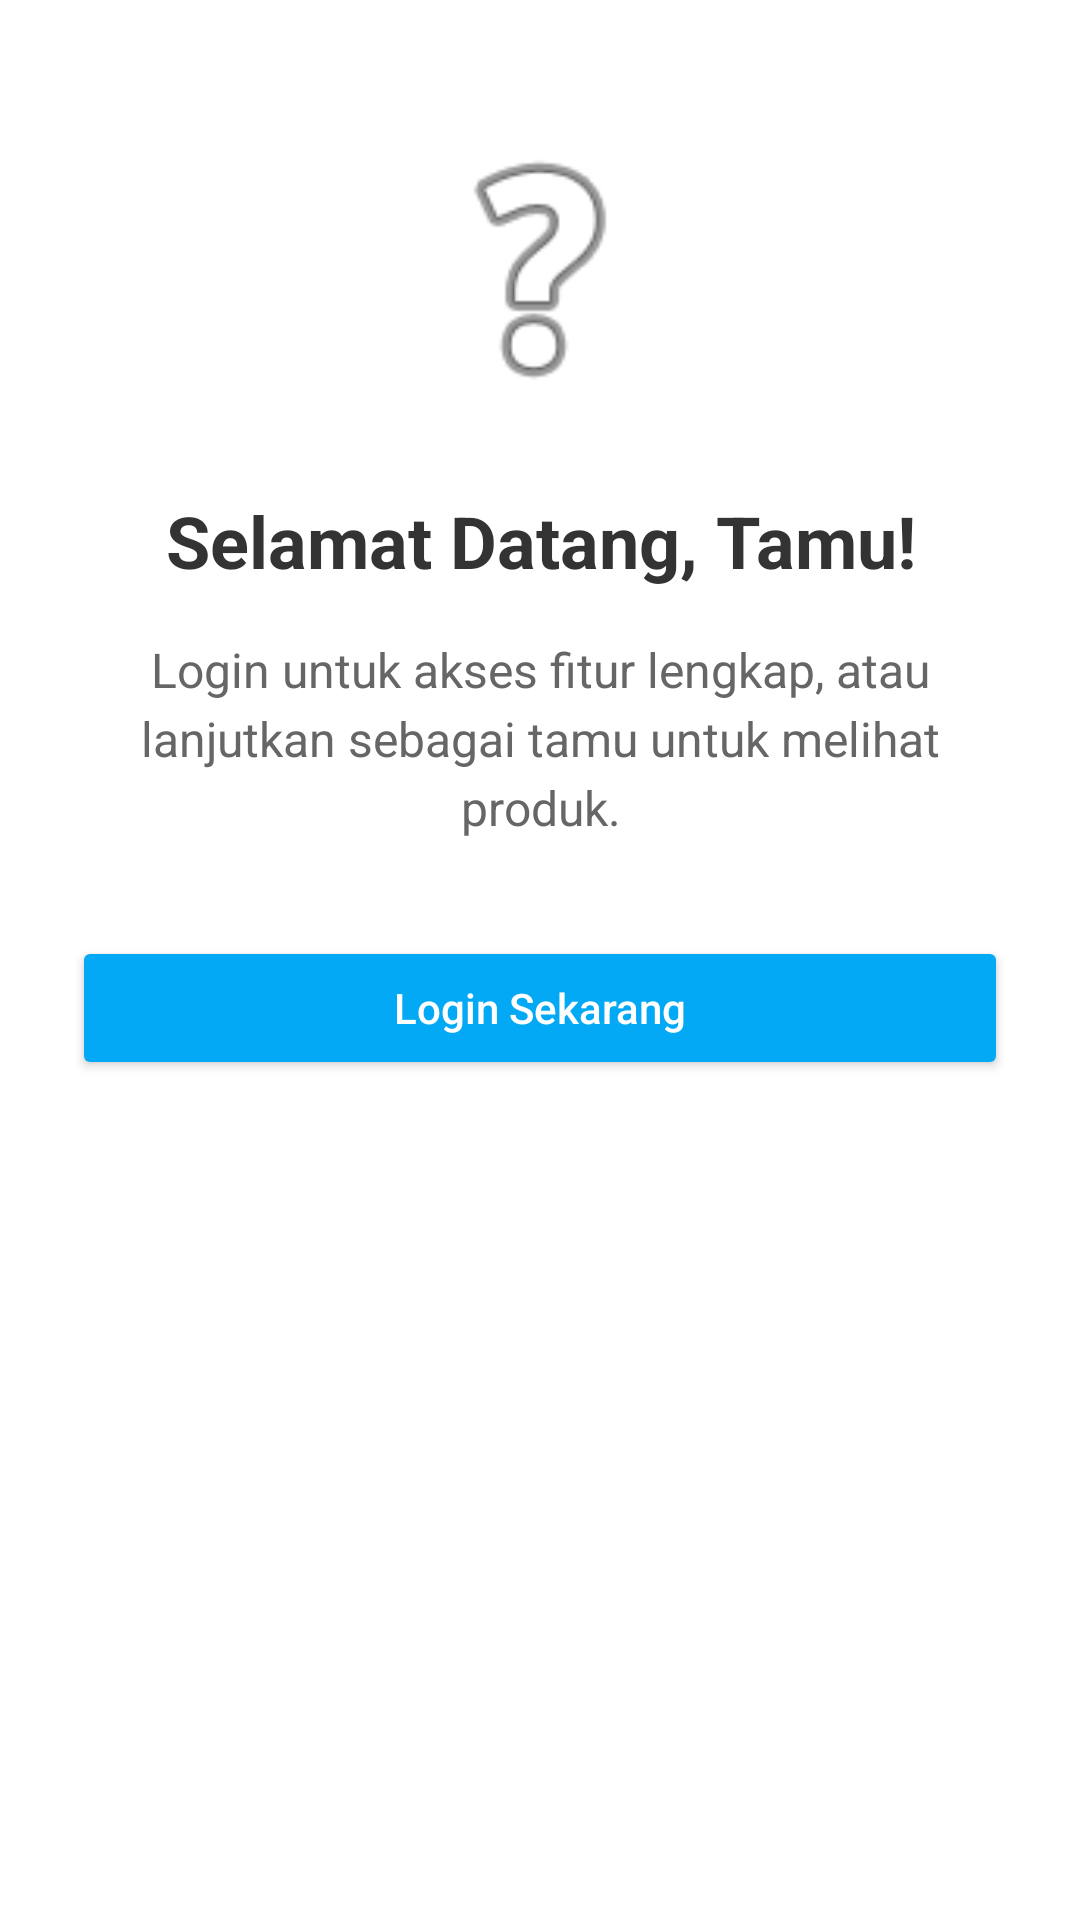

Where to tap for icons on this 1080px×1920px app screen, as [x,y]:
help: [540,270]
